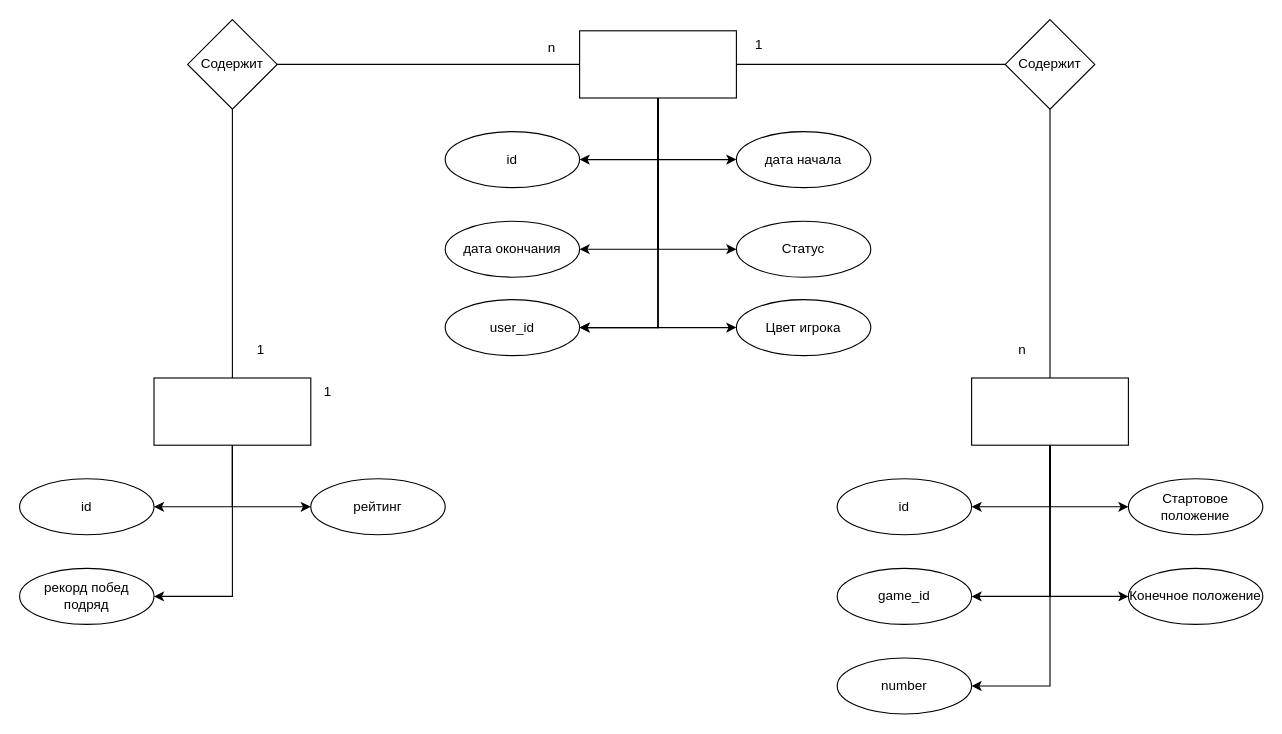
Image size: 1282x734. Some labels were removed from this diagram. The shapes that lost their labels are listed below. From the top down, each one's centre as x and y in pixels, then its label:
the point at 657,64: Партия
the point at 232,411: Пользователь
the point at 1049,411: Ход
